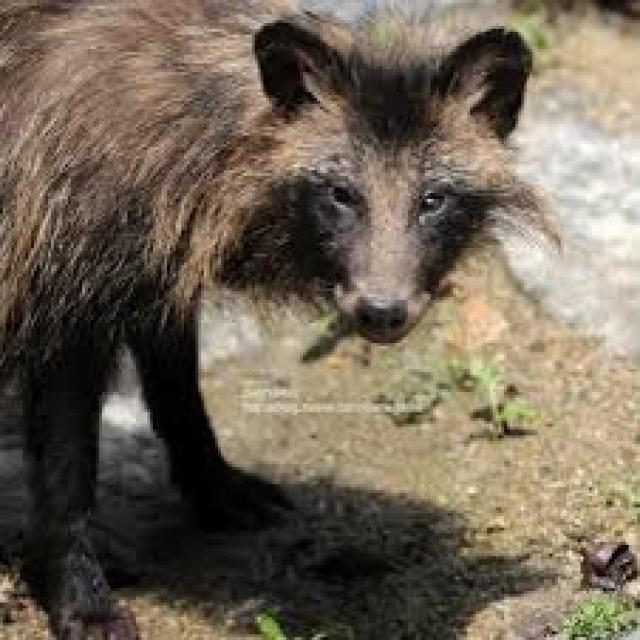racoon: (0, 0, 541, 561)
